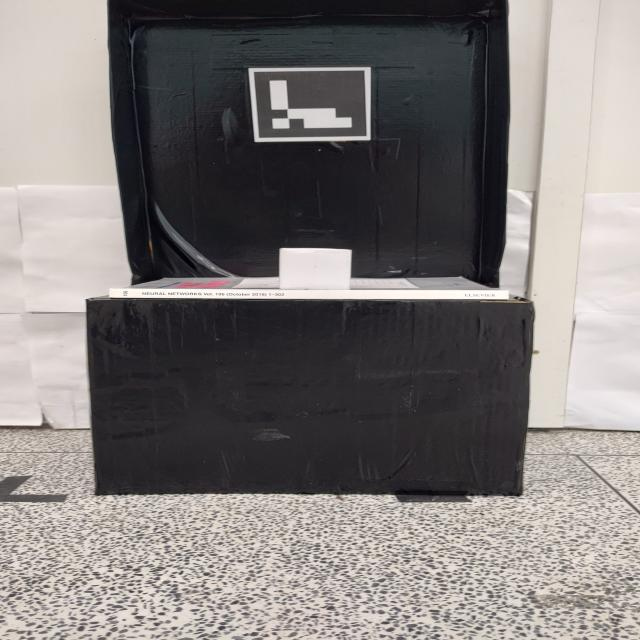bale: (276, 247, 355, 291)
